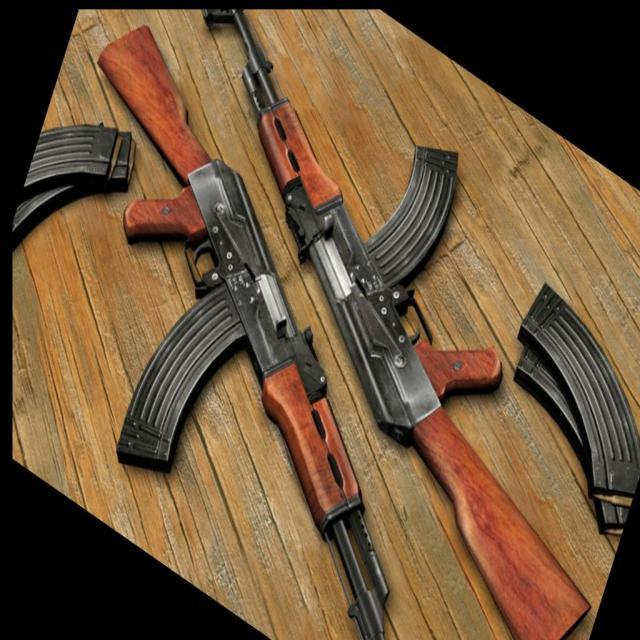weapon: (202, 10, 592, 640), (97, 23, 392, 640)
